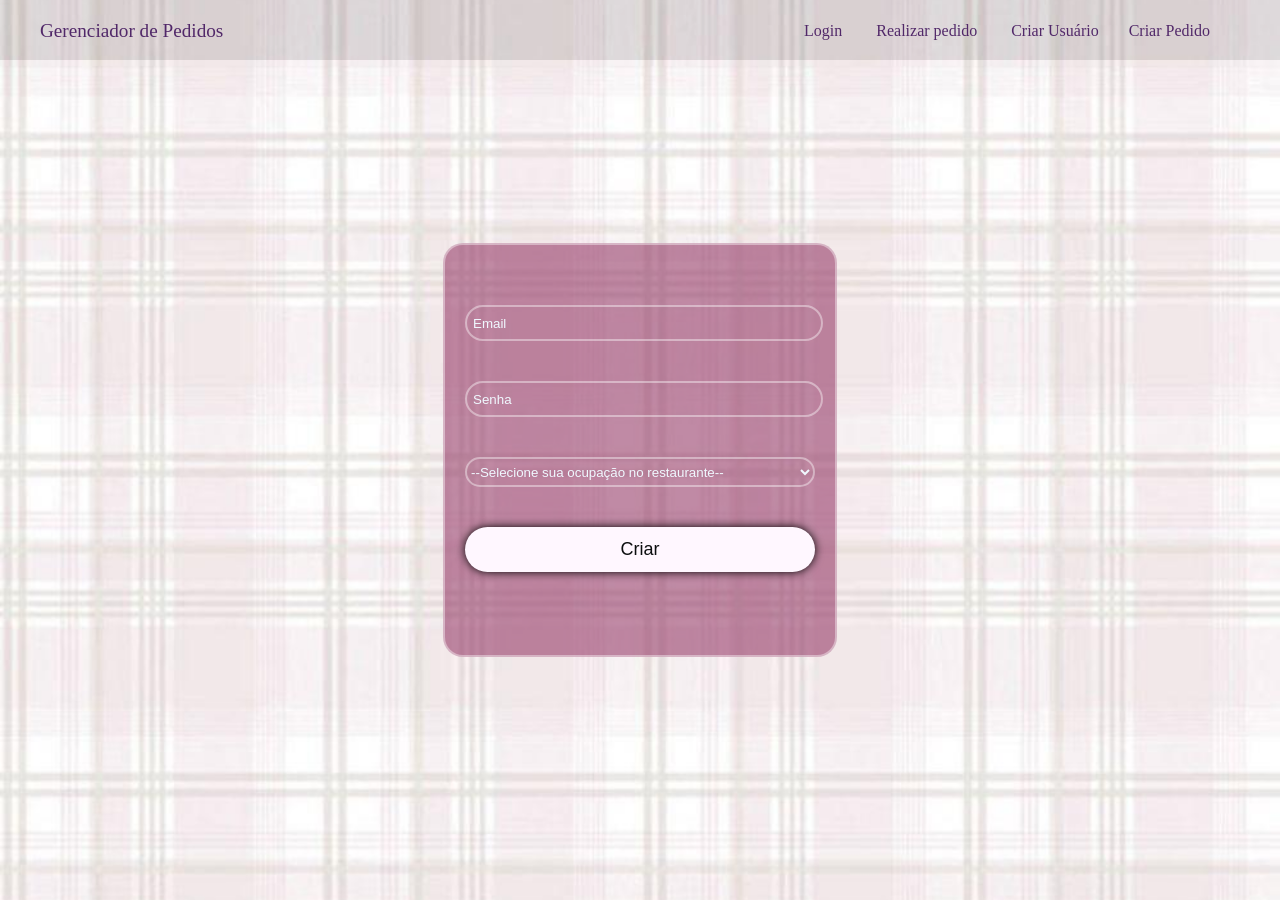
Test: CreateUserFormRendering › Testa a submissão do formulário com erro de usuário já existente
Step 1. Type "emailJaExistente@teste.com" into the field with placeholder "Email" → (644, 323), box [465,305,823,341]
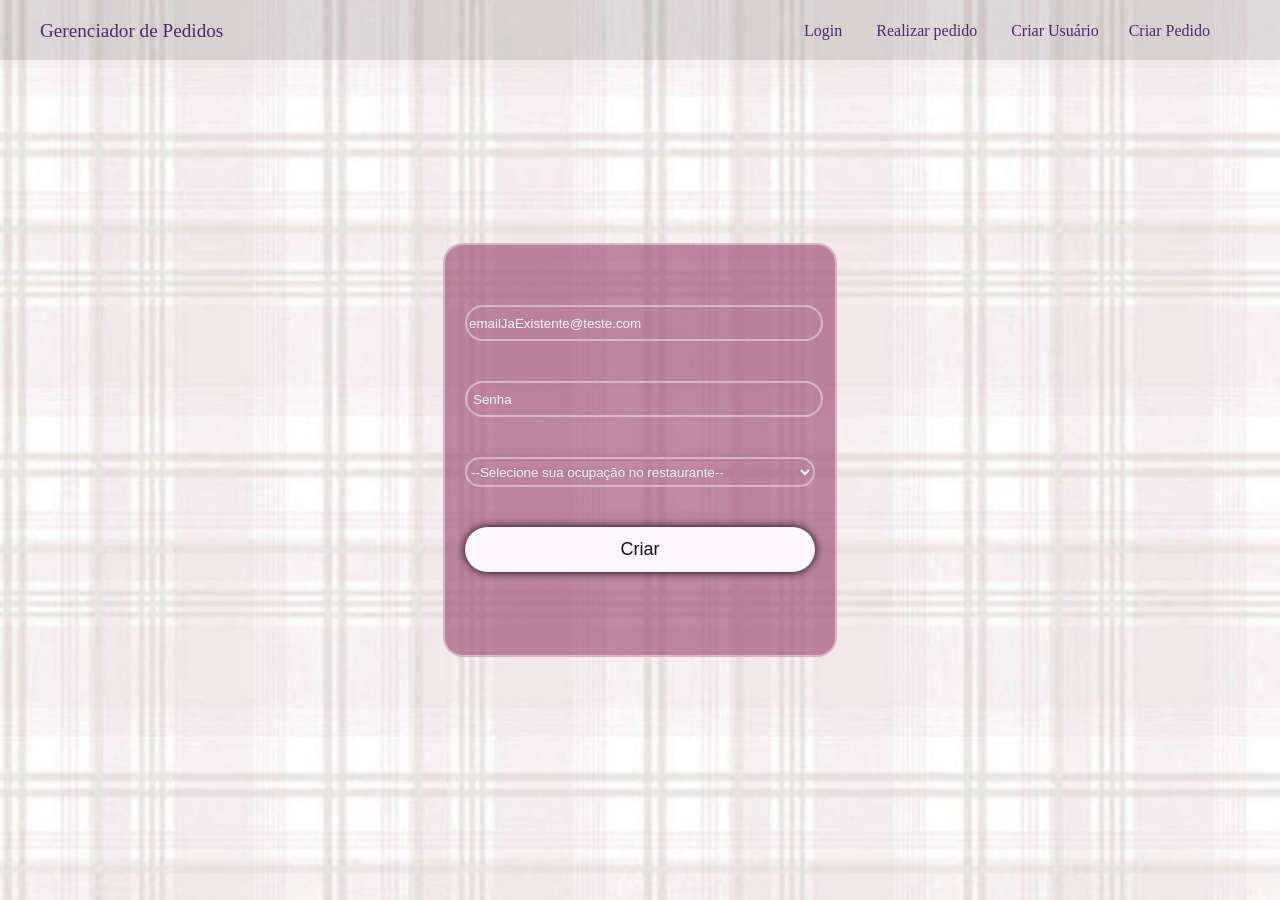
Step 2. Type "password" into the field with placeholder "Senha" → (644, 399), box [465,381,823,417]
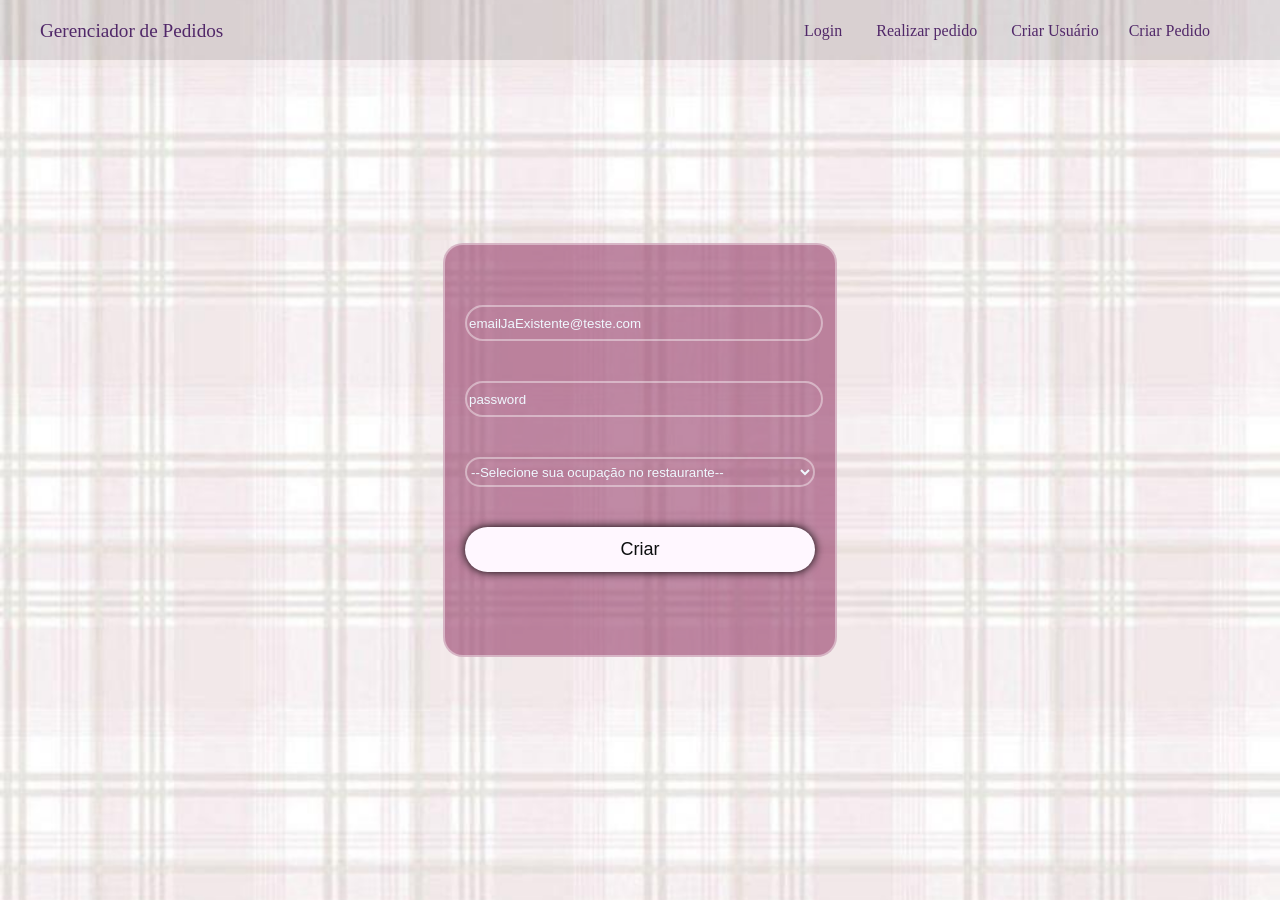
Step 3. Select "Cozinha" in the dropdown with test id "role-test" → (640, 472), box [465,457,815,487]
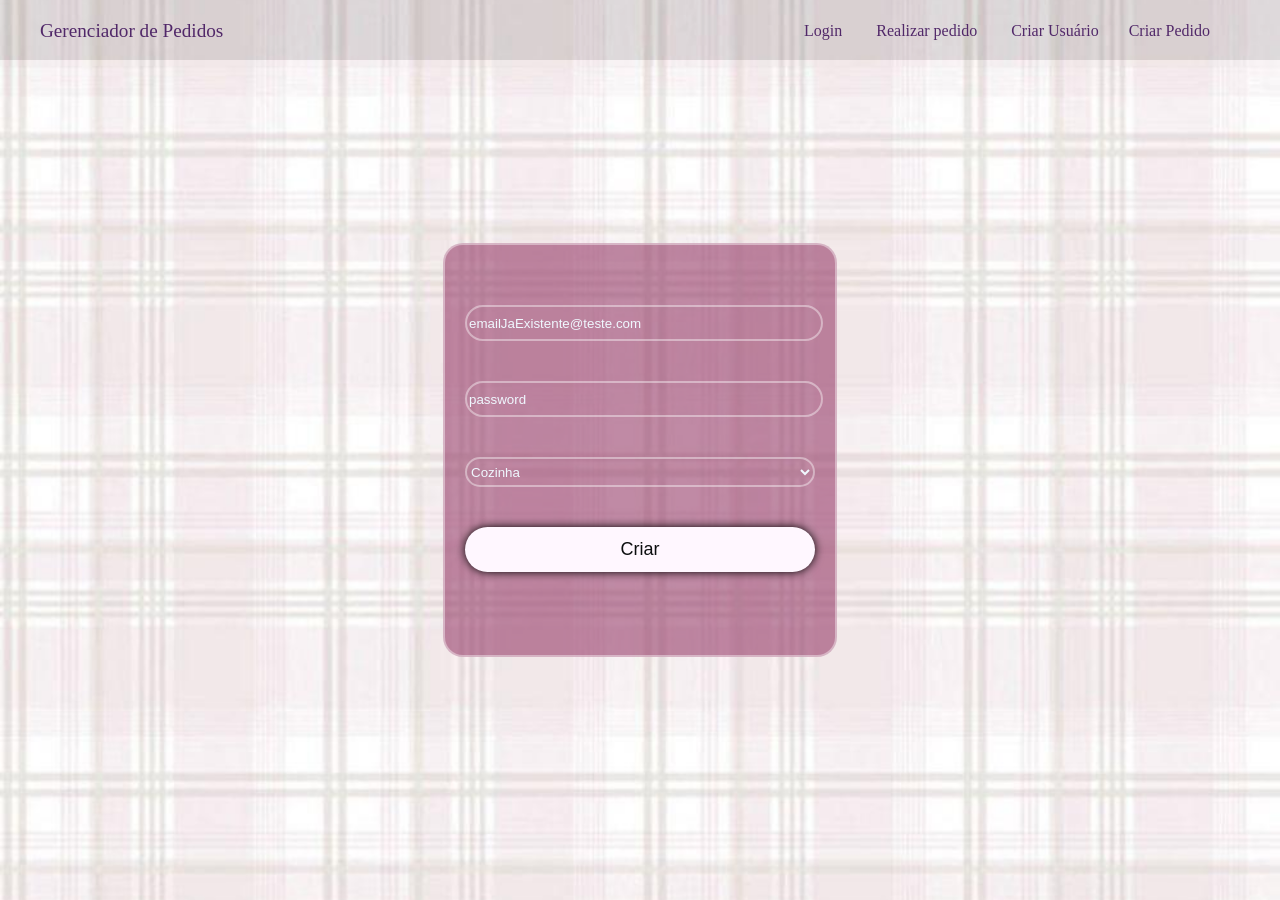
Step 4. Click the button "Criar" → click(640, 550), box [465,527,815,572]
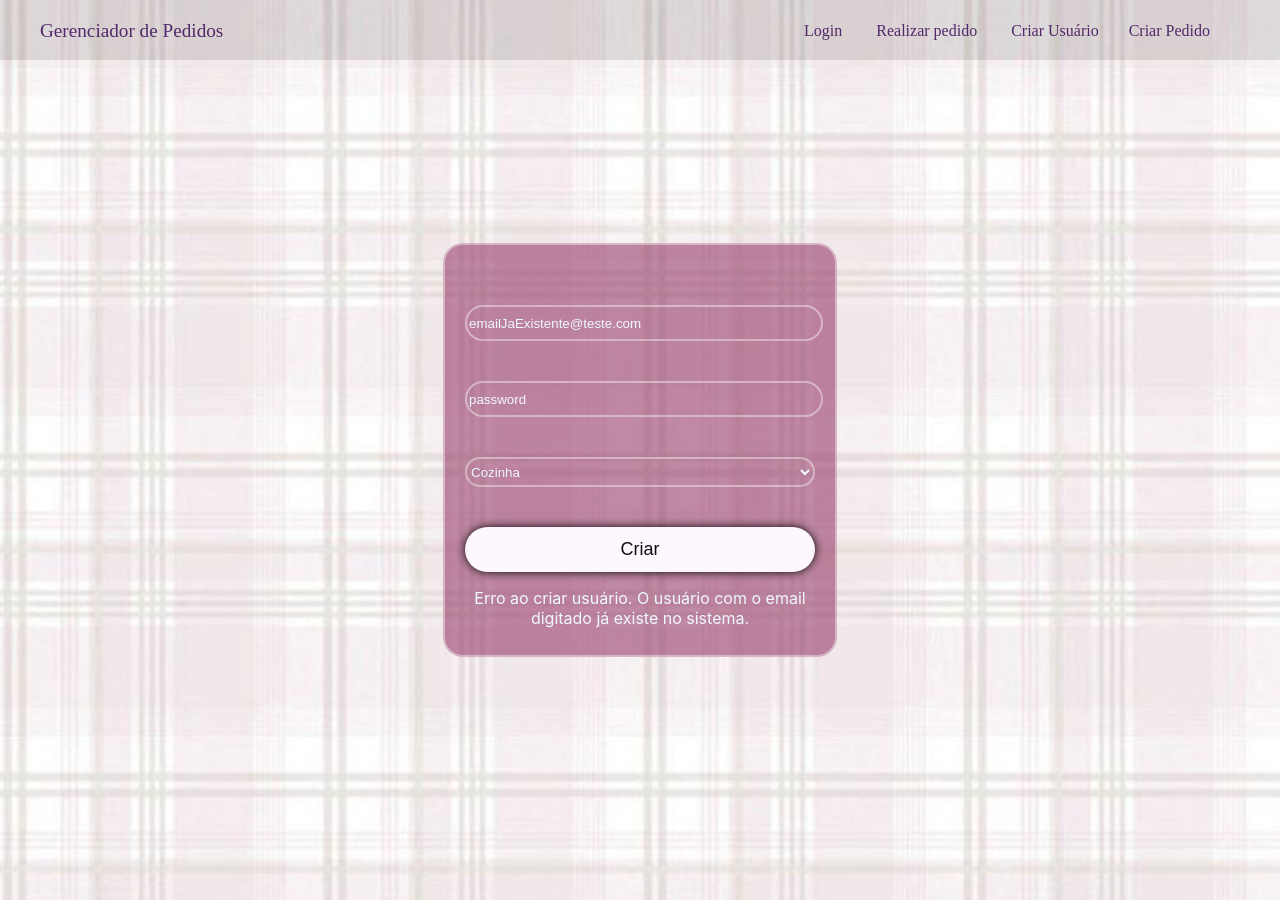
Expected: the text "Erro ao criar usuário. O usuário com o email digitado já existe no sistema." is shown, [465,588,815,628]
